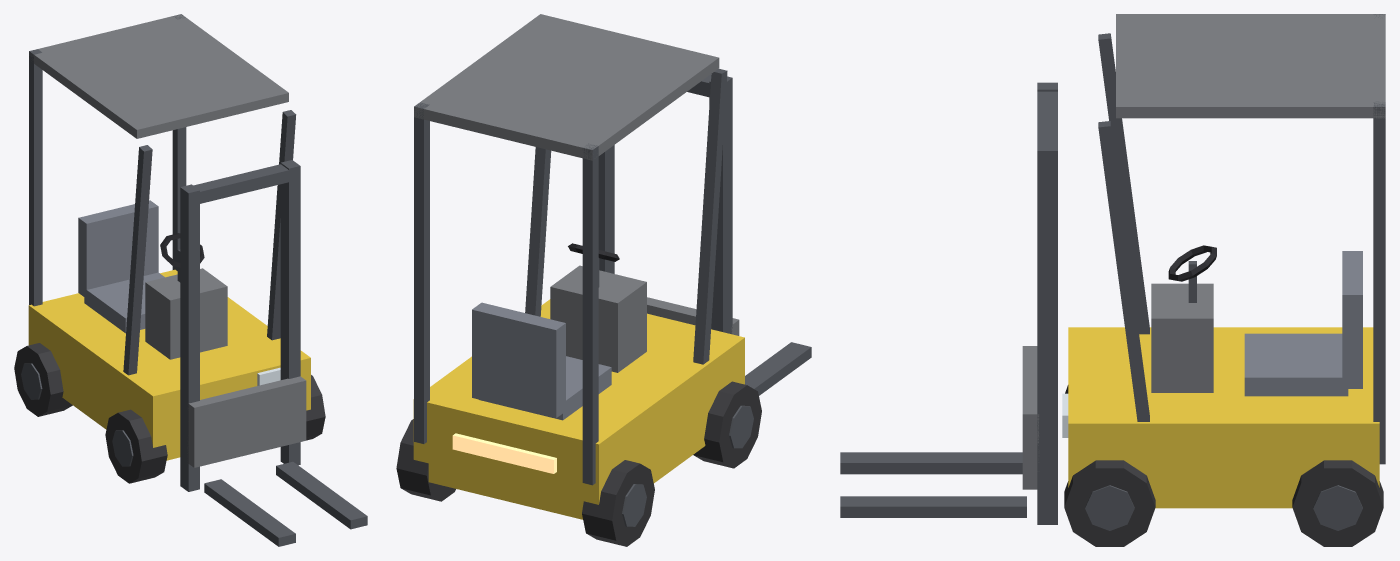
File: SM_Cargo_Loader.fbx
3 views of the same model, side by side, from view 1: azimuth 30°, elevation 25°; view 2: azimuth 150°, elevation 25°; view 3: azimuth 270°, elevation 25° (orthographic). The views are drawn at different scales.
Visible parts, largest first — view 1: SM_Cargo_Loader; view 2: SM_Cargo_Loader; view 3: SM_Cargo_Loader.
Part boxes in pixels (box(x1,y1,x2,y2)): SM_Cargo_Loader: box(14, 14, 367, 546); SM_Cargo_Loader: box(396, 14, 811, 546); SM_Cargo_Loader: box(840, 14, 1385, 546).
Size of the model in its own units: 1.3 by 2.29 by 2.63.
